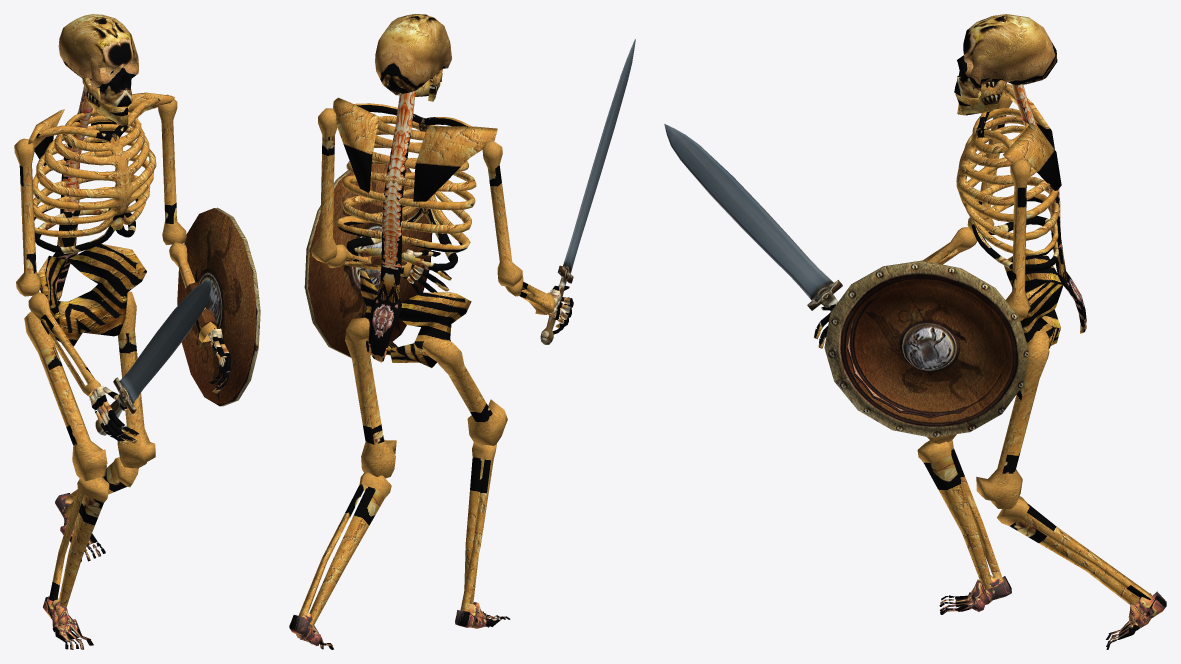
File: Skeleton_000026.obj
3 renders of one model, left to right at view 1: azimuth 30°, elevation 25°; view 2: azimuth 150°, elevation 25°; view 3: azimuth 270°, elevation 25°, orthographic. The views are drawn at different scales.
Parts seen in each view (by area): view 1: Costillar, Shield_Shield.001, Coxis, Femur, Skull, Humero, Tibia, Sword, Radio, Hands, Feet, Omoplato (+1 smaller); view 2: Costillar, Shield_Shield.001, Femur, Tibia, Omoplato, Skull, Humero, Coxis, Sword, Radio, Hands, Feet; view 3: Shield_Shield.001, Costillar, Tibia, Sword, Skull, Femur, Humero, Coxis, Feet, Omoplato, Mandibula, Radio.
Boxes of the visible parts, x1,y1,x2,y2 form: Costillar: (32,80,160,300); Shield_Shield.001: (177,207,260,406); Coxis: (38,244,146,346); Femur: (24,291,155,481); Skull: (58,14,138,106); Humero: (14,94,186,296); Tibia: (49,457,138,606); Sword: (95,280,212,435); Radio: (28,242,216,396); Hands: (89,328,230,444); Feet: (43,493,105,649); Omoplato: (28,92,174,165); Costillar: (337,91,476,362); Shield_Shield.001: (304,164,432,357); Femur: (345,317,507,478); Tibia: (298,442,496,627); Omoplato: (332,97,497,201); Skull: (375,14,451,95); Humero: (311,108,522,286); Coxis: (360,270,471,367); Sword: (540,39,635,344); Radio: (327,244,555,314); Hands: (400,249,573,334); Feet: (289,602,510,649); Shield_Shield.001: (824,260,1028,437); Costillar: (956,84,1086,333); Tibia: (917,440,1151,604); Sword: (664,124,842,311); Skull: (954,14,1057,98); Femur: (927,331,1049,508); Humero: (967,93,1030,320); Coxis: (1004,249,1063,348); Feet: (939,575,1166,649); Omoplato: (996,82,1061,190); Mandibula: (955,79,1006,115); Radio: (922,227,977,264).
Bounding box in the file's own units: 2.85 × 8.55 × 6.29.
5 materials, 5 textured.
